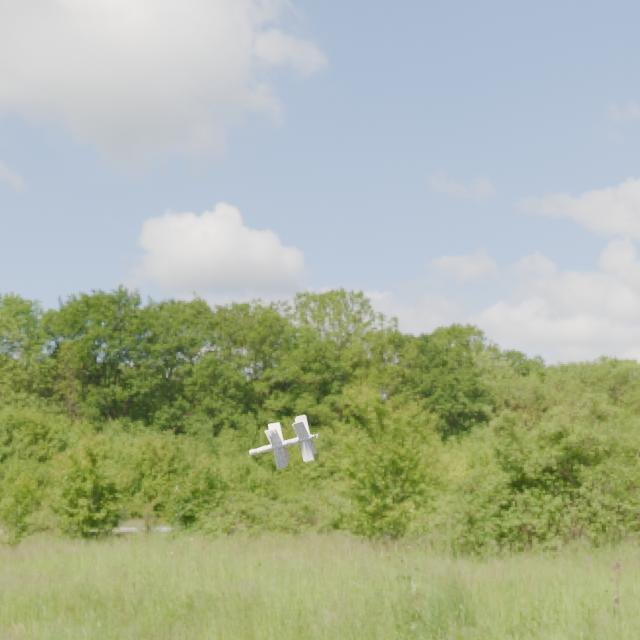Airaplan: (249, 415, 319, 470)
